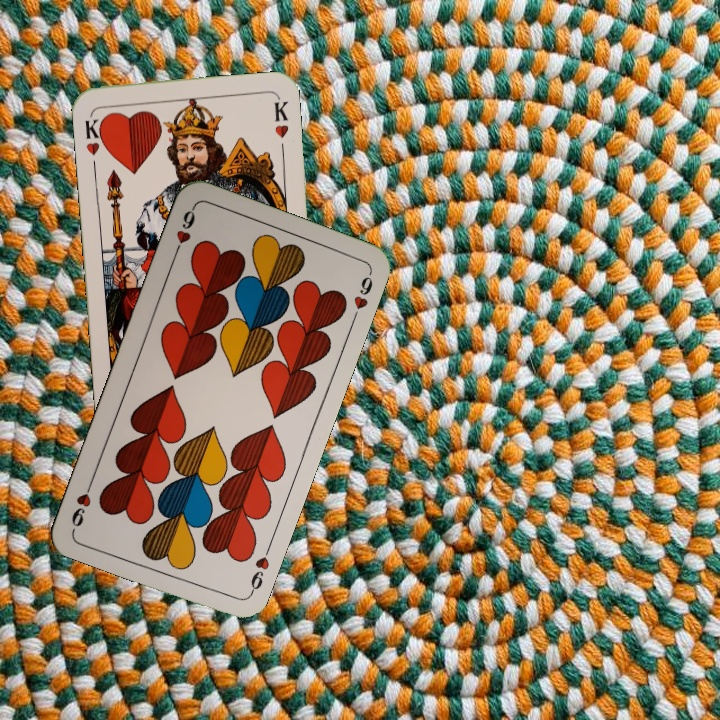H9: (169, 203, 198, 260), (245, 541, 274, 598)
HK: (80, 110, 109, 158)
